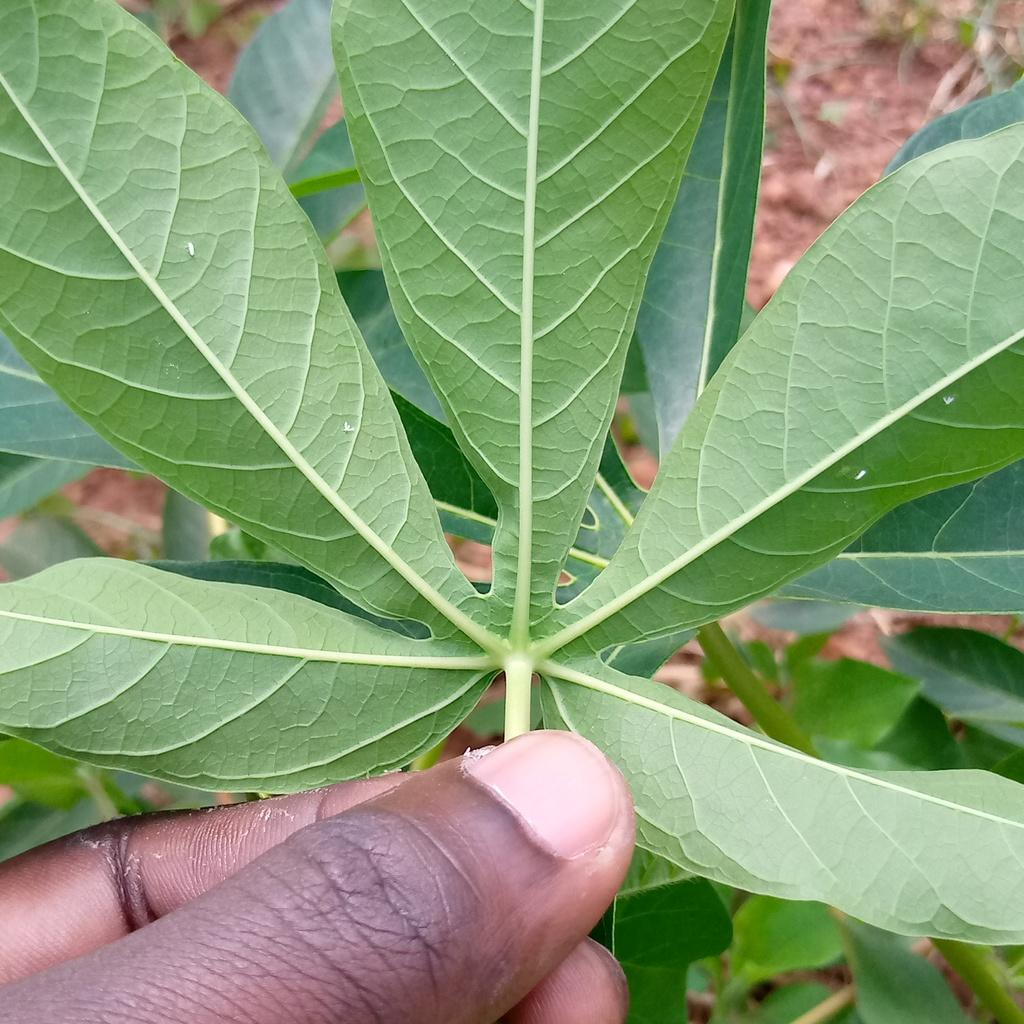adult: (854, 470, 867, 480), (943, 395, 955, 405), (344, 422, 355, 432), (188, 242, 195, 257)
